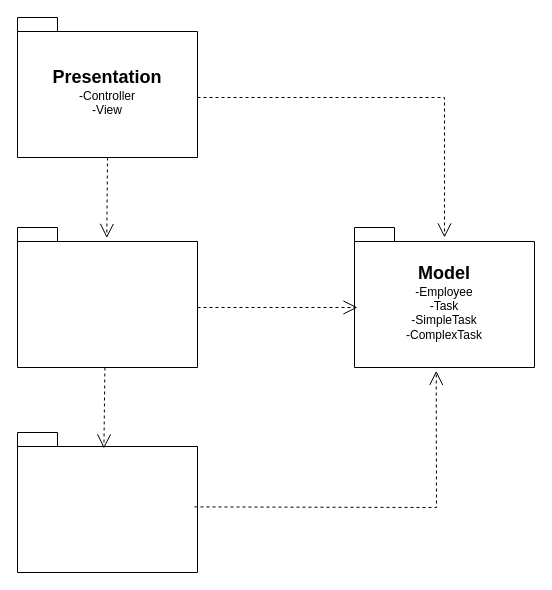
Image size: 552x590. Some labels were removed from this diagram. The shapes that lost their labels are listed below. From the top down, each one's centre as x and y in pixels, then its label:
At (107,297): "Business_Logic -TaskManagement -Utility".
At (107,502): "Data_Access - SerializationOperations".
